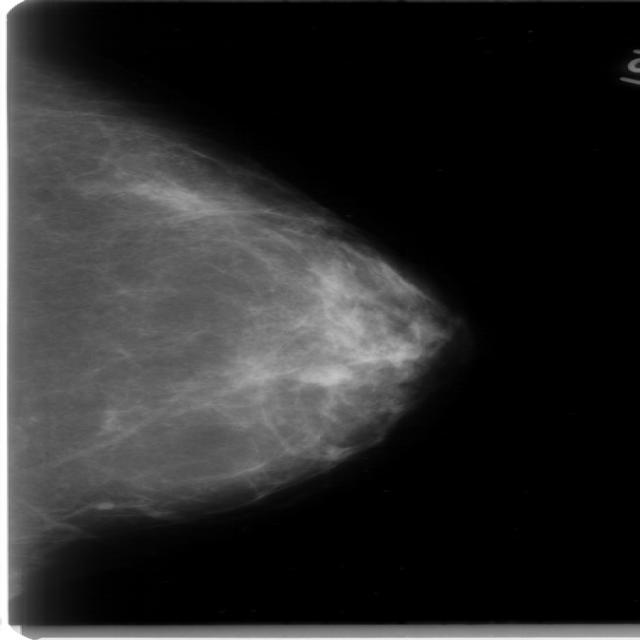tumour: (294, 362, 350, 386)
